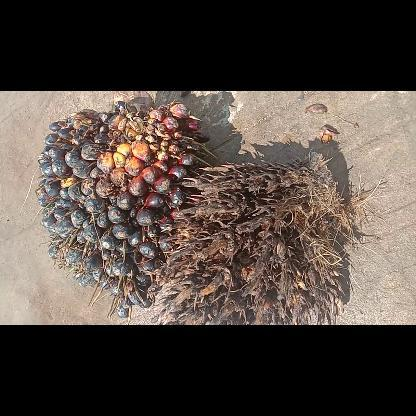Janjang kosong: (149, 150, 349, 324)
TBS mentah: (34, 90, 218, 324)
